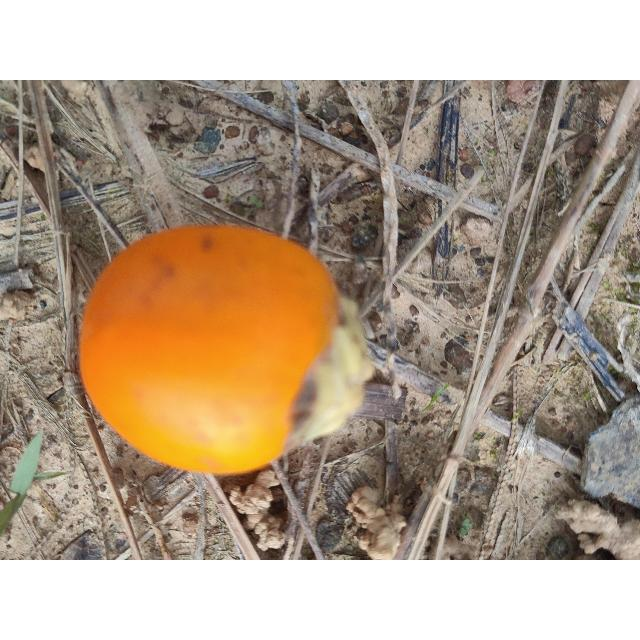good: (77, 224, 376, 478)
